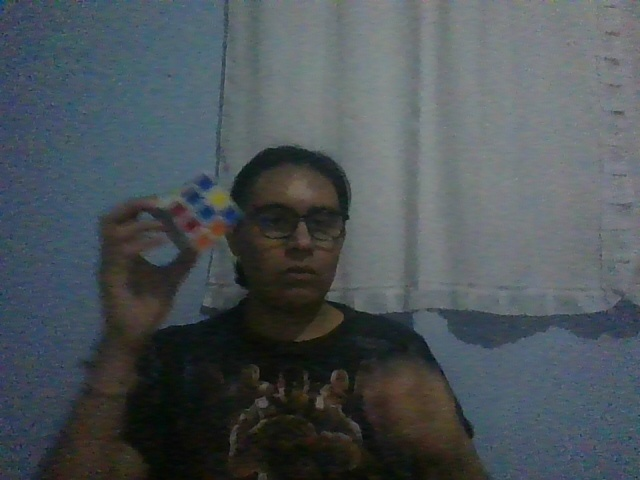rubik: (149, 172, 246, 255)
